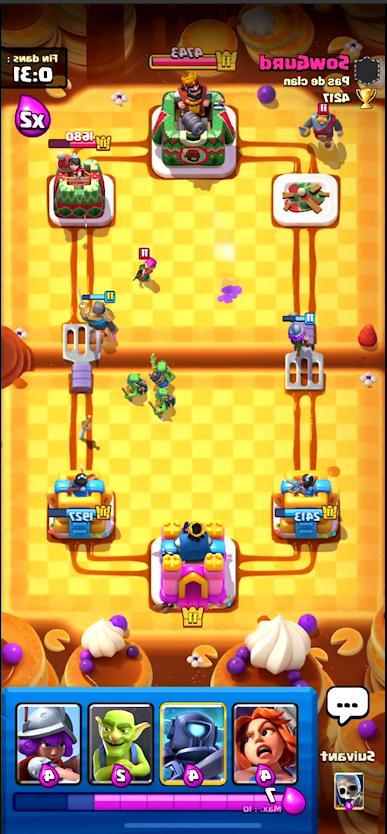archere: (132, 249, 155, 283)
chevalier: (75, 291, 115, 336), (300, 106, 340, 149)
gobelin_lances: (149, 355, 179, 386), (151, 390, 174, 418), (118, 377, 144, 399)
mousquetaire: (283, 308, 316, 348)
